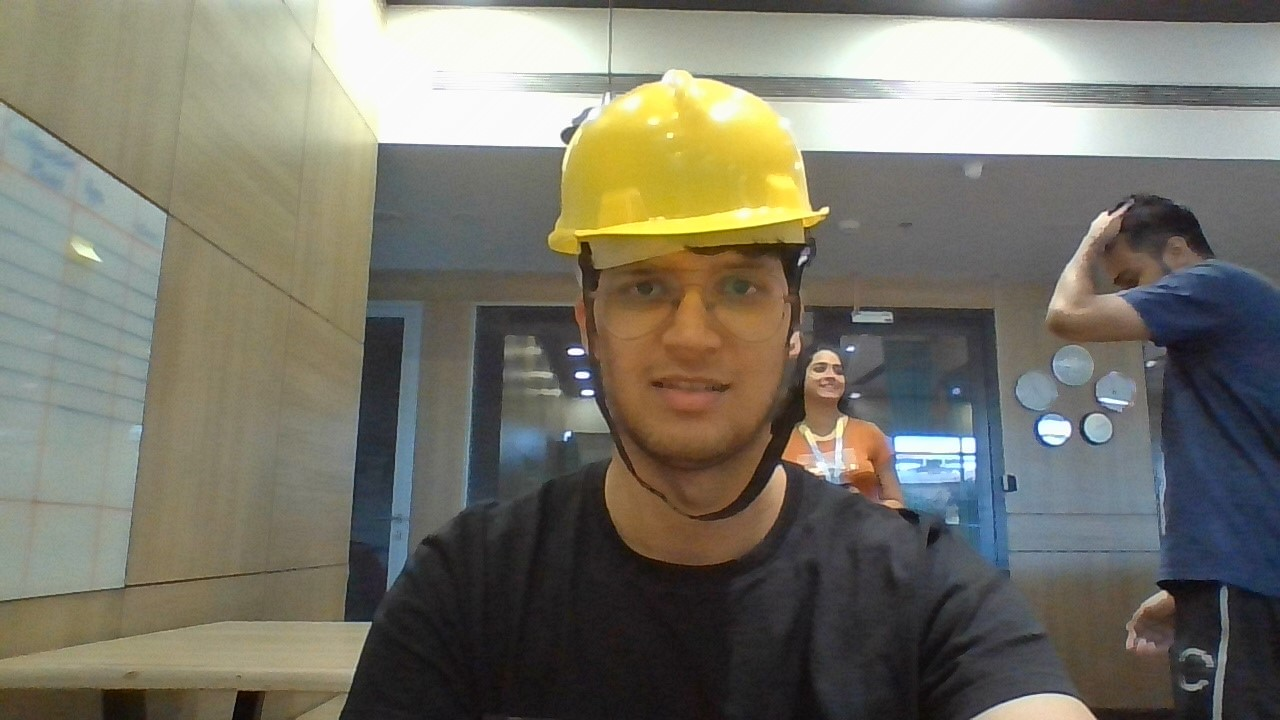Person_wearing_helmet: (513, 59, 853, 291)
